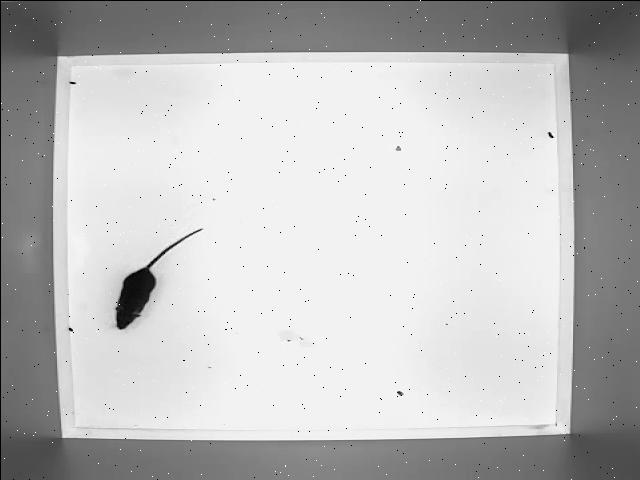Tikus: (80, 226, 202, 327)
